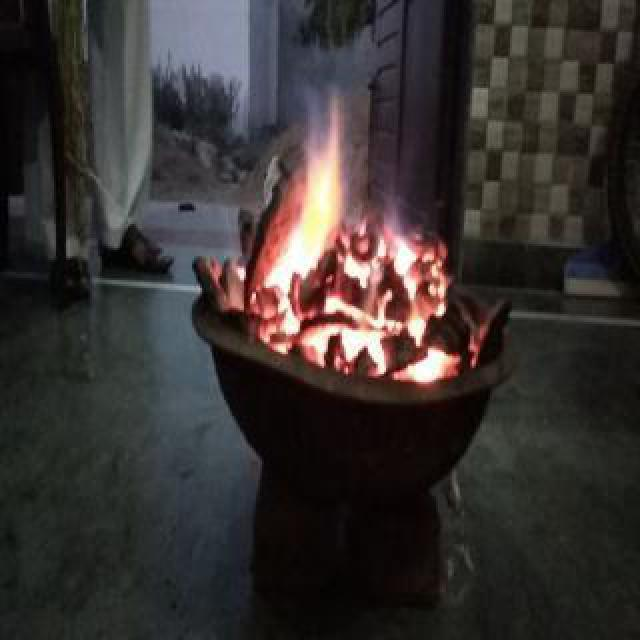Fire: (238, 96, 416, 316)
